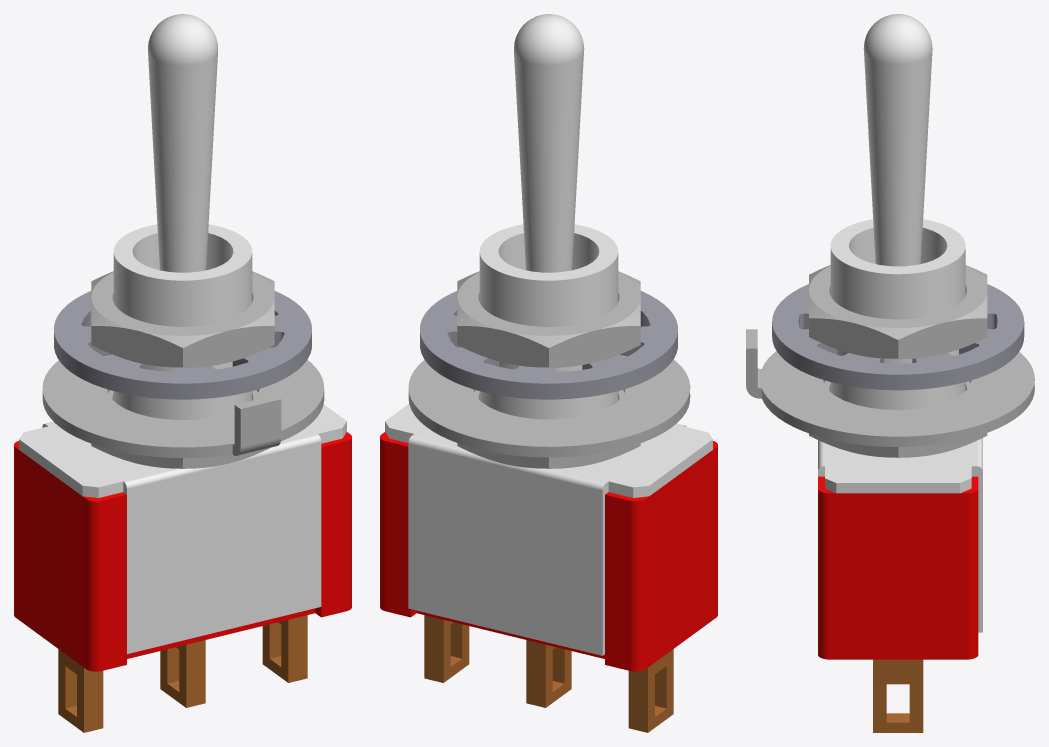
Rendered from Toggle Switch v1.fbx.
The picture shows the model from 3 angles, left to right: view 1: azimuth 30°, elevation 25°; view 2: azimuth 150°, elevation 25°; view 3: azimuth 270°, elevation 25°; orthographic projection. The views are drawn at different scales.
Parts seen in each view (by area): view 1: Body1 (×10), Body2; view 2: Body1 (×10), Body2; view 3: Body1 (×8), Body2.
Part boxes in pixels (left/top/right/bottom): Body1 (×10): left=14, top=14, right=351, bottom=732; Body2: left=19, top=404, right=346, bottom=653; Body1 (×10): left=380, top=14, right=717, bottom=732; Body2: left=385, top=404, right=712, bottom=655; Body1 (×8): left=746, top=14, right=1034, bottom=732; Body2: left=818, top=438, right=982, bottom=632.
Bounding box in the file's own units: 13 × 31.9 × 12.6.
